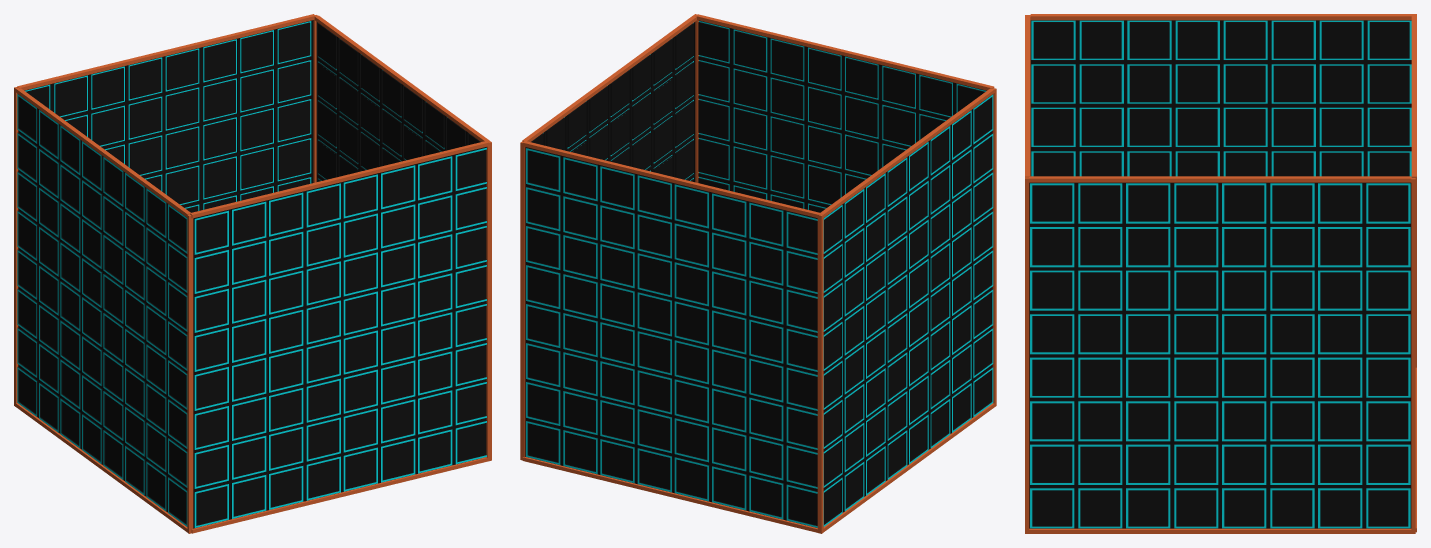
Rendered from Base Room.fbx.
3 renders of one model, left to right at view 1: azimuth 30°, elevation 25°; view 2: azimuth 150°, elevation 25°; view 3: azimuth 270°, elevation 25°, orthographic. The views are drawn at different scales.
Parts seen in each view (by area): view 1: polySurface42, polySurface39; view 2: polySurface42, polySurface39; view 3: polySurface42, polySurface39.
Boxes of the visible parts, x1,y1,x2,y2 form: polySurface42: (17, 20, 486, 528); polySurface39: (14, 14, 491, 533); polySurface42: (525, 20, 993, 527); polySurface39: (520, 14, 996, 533); polySurface42: (1029, 20, 1411, 528); polySurface39: (1025, 14, 1416, 533).
Size of the model in its own units: 52.91 by 53.32 by 53.25.
Materials: 2 (2 with a texture image).
